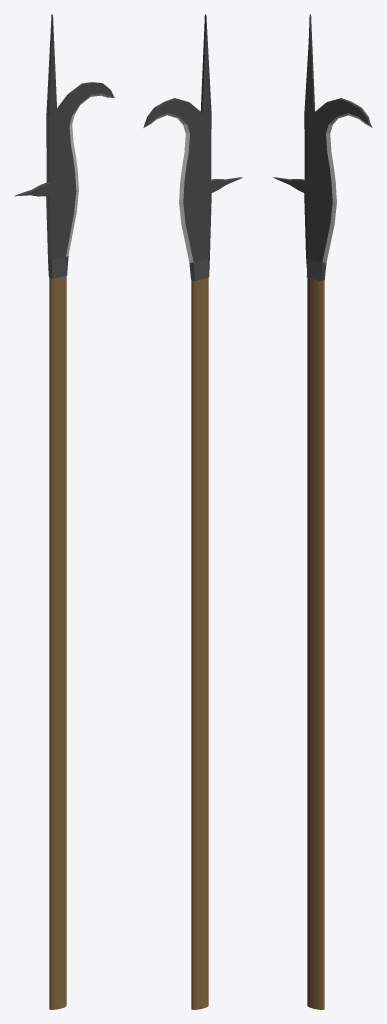
The model's file is gizarma.fbx.
3 renders of one model, left to right at view 1: azimuth 30°, elevation 25°; view 2: azimuth 210°, elevation 25°; view 3: azimuth 330°, elevation 25°, orthographic.
Parts seen in each view (by area): view 1: Cylinder; view 2: Cylinder; view 3: Cylinder.
Part boxes in pixels (left/top/right/bottom): Cylinder: left=14, top=14, right=114, bottom=1009; Cylinder: left=143, top=14, right=242, bottom=1009; Cylinder: left=273, top=14, right=372, bottom=1009.
Bounding box in the file's own units: 180 × 1702 × 12.76.
